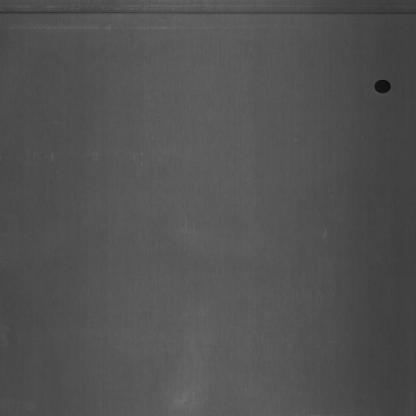punching_hole: (372, 73, 396, 97)
welding_line: (0, 2, 414, 28)
